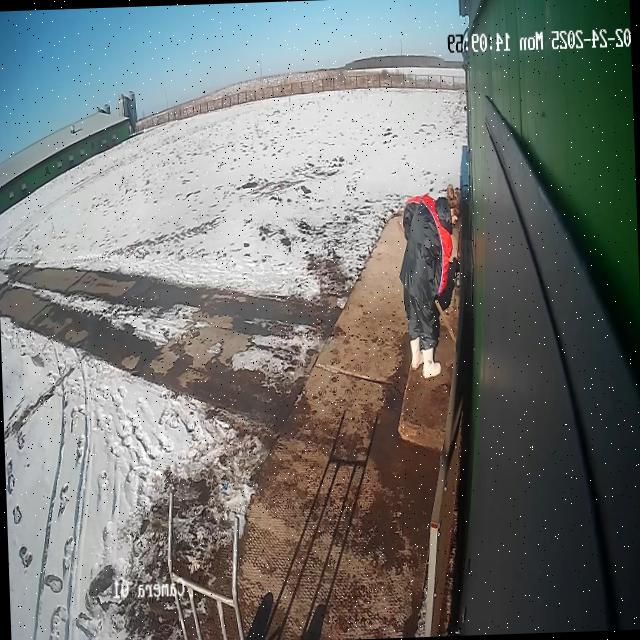Red uniform: (394, 185, 468, 382)
